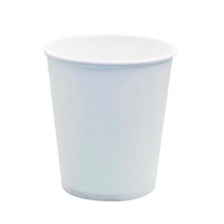paper_cup: (37, 28, 180, 204)
